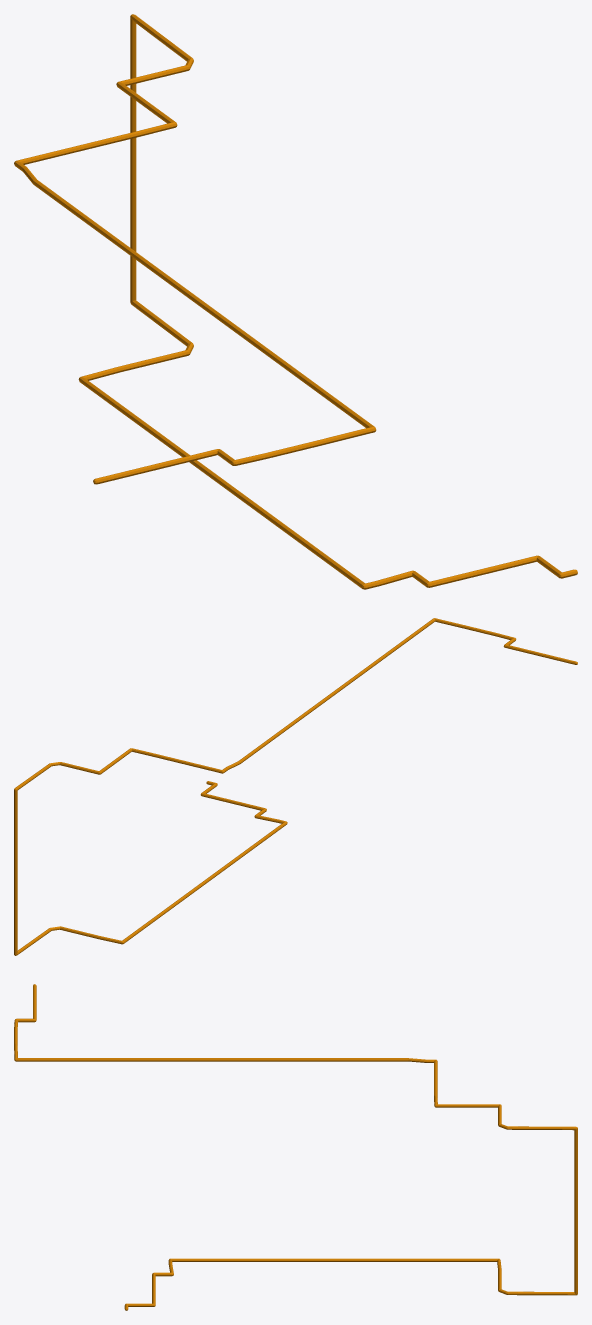
3 renders of one model, top to bottom at view 1: azimuth 30°, elevation 25°; view 2: azimuth 150°, elevation 25°; view 3: azimuth 270°, elevation 25°, orthographic. The views are drawn at different scales.
Size of the model in its own units: 2070 by 1020 by 3092.
